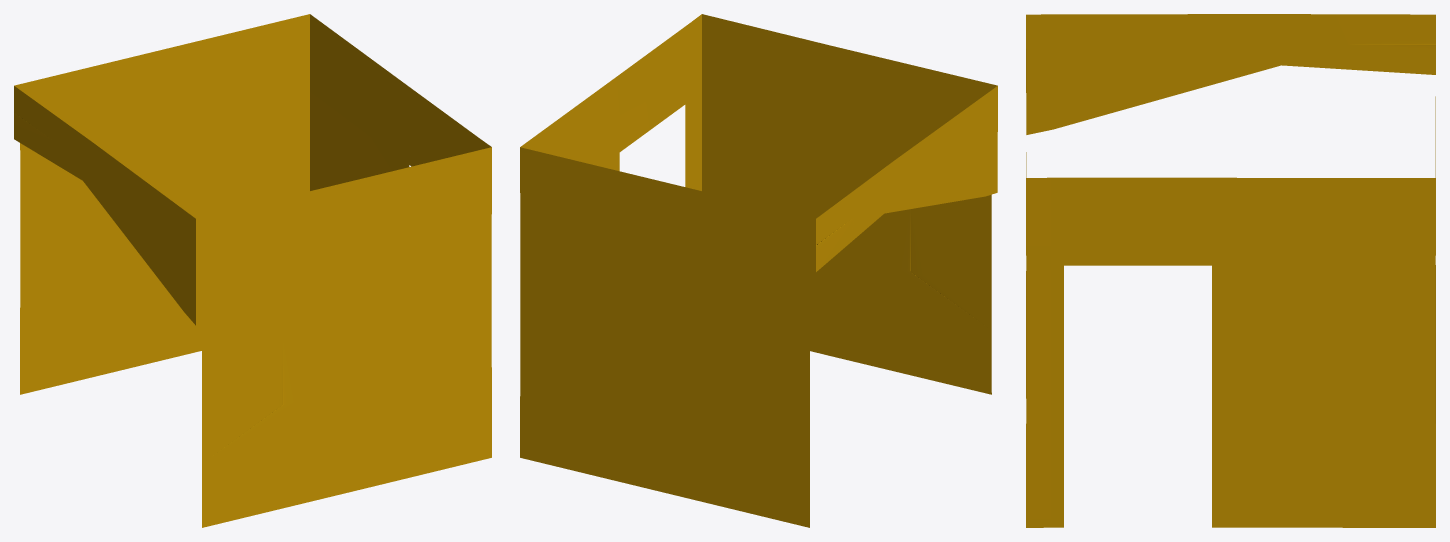
Rendered from H07C_WP_08_Break.fbx.
3 renders of one model, left to right at view 1: azimuth 30°, elevation 25°; view 2: azimuth 150°, elevation 25°; view 3: azimuth 270°, elevation 25°, orthographic. The views are drawn at different scales.
Visible parts, largest first — view 1: H07C_WP_08_Break; view 2: H07C_WP_08_Break; view 3: H07C_WP_08_Break.
Part boxes in pixels (x1,y1,x2,y2): H07C_WP_08_Break: (14, 14, 491, 527); H07C_WP_08_Break: (520, 14, 997, 527); H07C_WP_08_Break: (1026, 14, 1435, 527).
Size of the model in its own units: 299 by 301 by 318.
